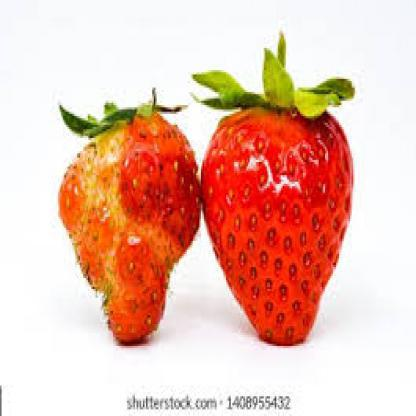strawberry_rotten: (41, 70, 204, 359)
